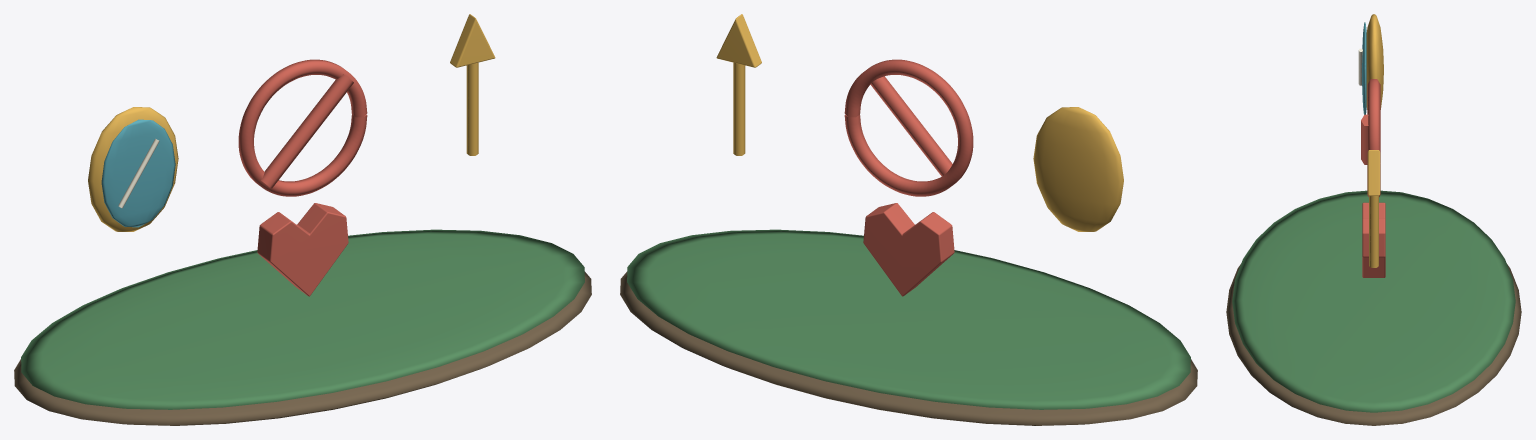
Rendered from complete-first-sorry-no-rise.glb.
The picture shows the model from 3 angles, left to right: view 1: azimuth 30°, elevation 25°; view 2: azimuth 150°, elevation 25°; view 3: azimuth 270°, elevation 25°; orthographic projection. The views are drawn at different scales.
Visible parts, largest first — view 1: complete-first-sorry-no-rise_surface_01, complete-first-sorry-no-rise_surface_05, complete-first-sorry-no-rise_surface_00, complete-first-sorry-no-rise_surface_03, complete-first-sorry-no-rise_surface_02; view 2: complete-first-sorry-no-rise_surface_01, complete-first-sorry-no-rise_surface_05, complete-first-sorry-no-rise_surface_02, complete-first-sorry-no-rise_surface_00; view 3: complete-first-sorry-no-rise_surface_01, complete-first-sorry-no-rise_surface_00, complete-first-sorry-no-rise_surface_02, complete-first-sorry-no-rise_surface_05, complete-first-sorry-no-rise_surface_03.
Part boxes in pixels (bbox=[...]): complete-first-sorry-no-rise_surface_01: bbox=[21, 229, 584, 409]; complete-first-sorry-no-rise_surface_05: bbox=[238, 59, 367, 296]; complete-first-sorry-no-rise_surface_00: bbox=[14, 271, 591, 425]; complete-first-sorry-no-rise_surface_03: bbox=[101, 119, 175, 227]; complete-first-sorry-no-rise_surface_02: bbox=[88, 14, 495, 231]; complete-first-sorry-no-rise_surface_01: bbox=[627, 229, 1190, 409]; complete-first-sorry-no-rise_surface_05: bbox=[844, 59, 973, 296]; complete-first-sorry-no-rise_surface_02: bbox=[716, 14, 1123, 231]; complete-first-sorry-no-rise_surface_00: bbox=[620, 271, 1197, 425]; complete-first-sorry-no-rise_surface_01: bbox=[1232, 190, 1515, 412]; complete-first-sorry-no-rise_surface_00: bbox=[1226, 264, 1521, 425]; complete-first-sorry-no-rise_surface_02: bbox=[1366, 14, 1383, 267]; complete-first-sorry-no-rise_surface_05: bbox=[1361, 79, 1385, 277]; complete-first-sorry-no-rise_surface_03: bbox=[1362, 22, 1366, 114].
Size of the model in its own units: 4.56 by 2.3 by 2.5.
